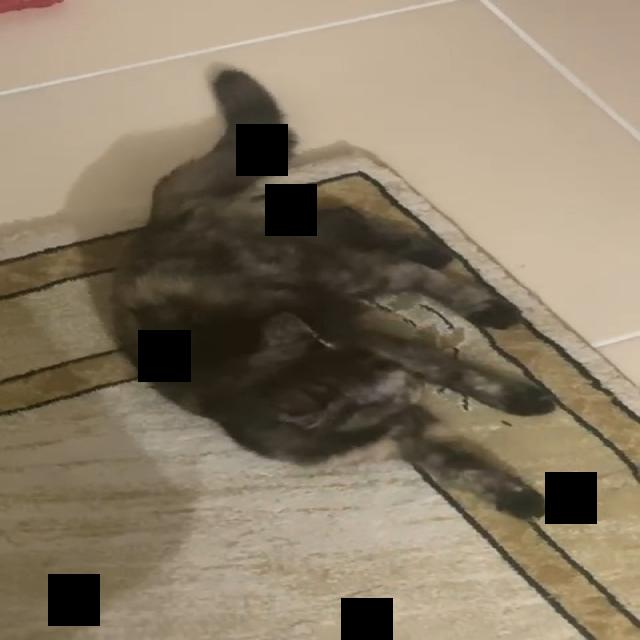authorized: (107, 63, 556, 521)
